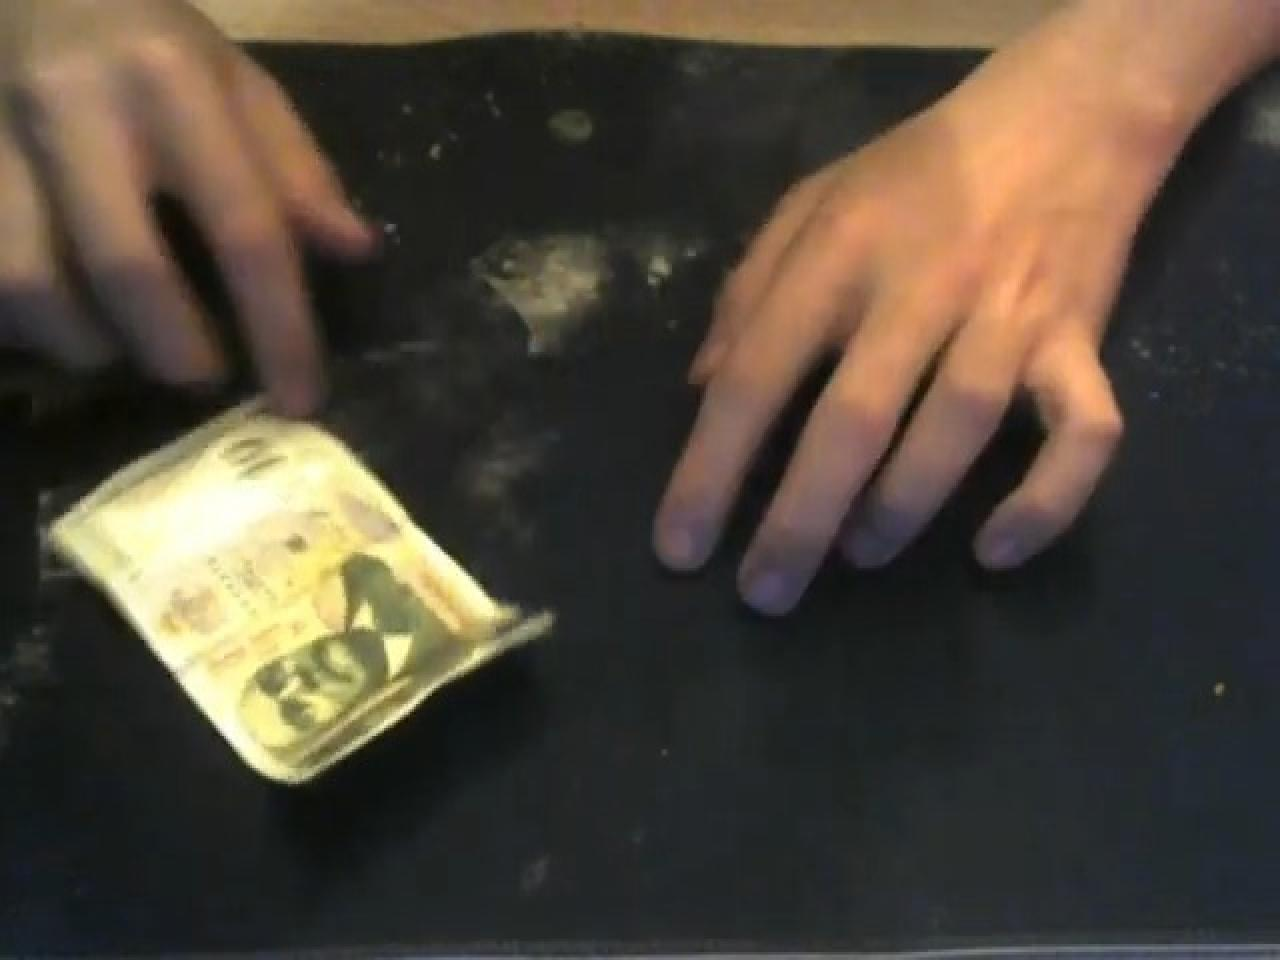10leva: (44, 400, 552, 790)
